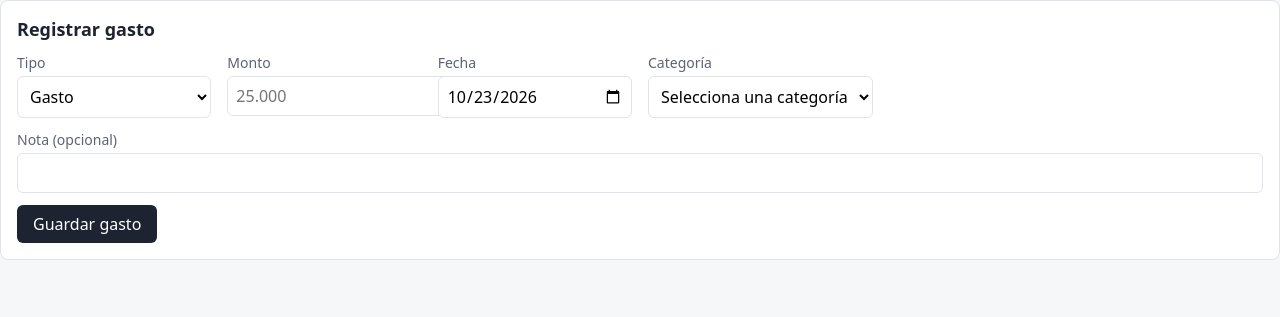
TransactionForm (RDF-6) › explains how to write an amount it cannot read
The width and height of the screenshot is (1280, 317).
Type "25,000.50" into the field labelled "Monto" at (352, 96), box 227,76 -> 476,116
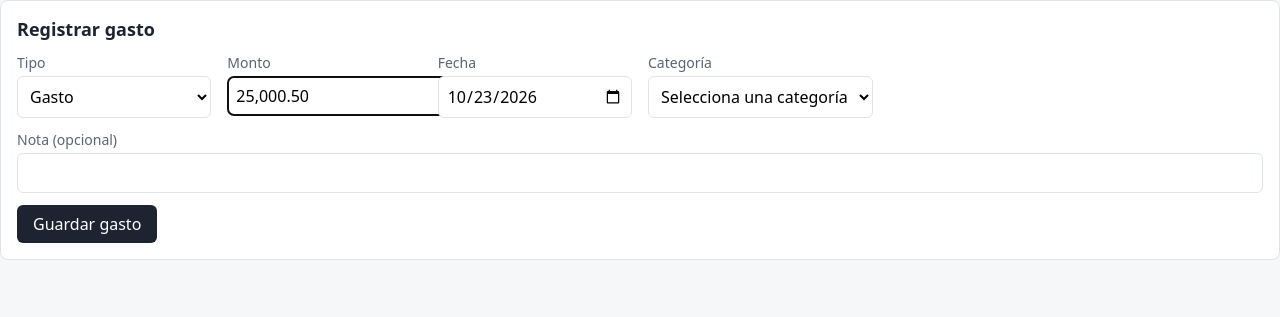
Select "Alimentación" in the dropdown labelled "Categoría" at (760, 97), box 648,76 -> 873,118
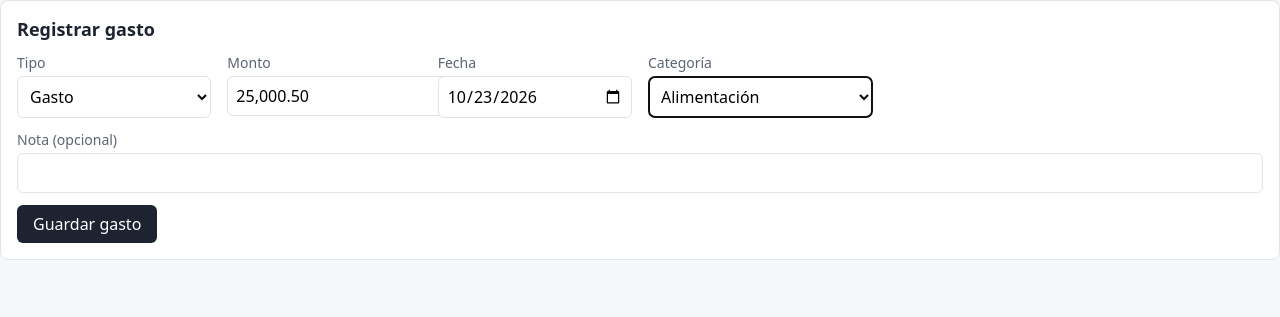
Click the button "Guardar gasto" at (87, 224), box 17,205 -> 157,243
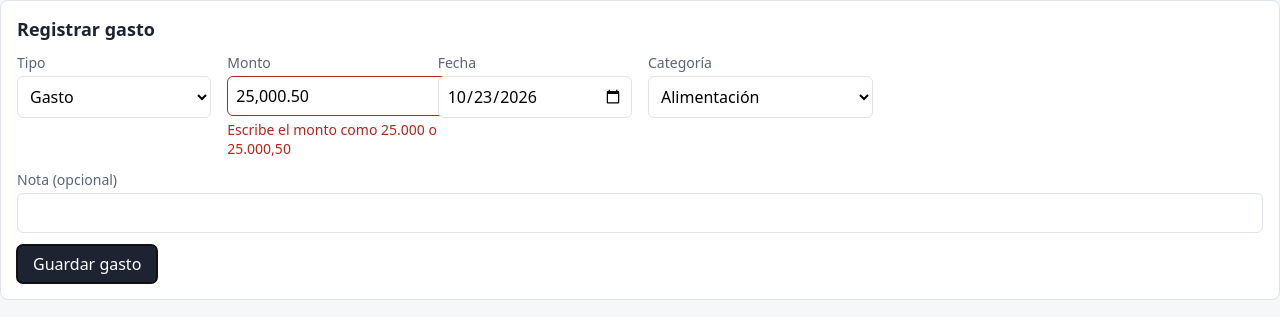
Check: the text "Escribe el monto como 25.000 o 25.000,50" is shown, box 227,120 -> 437,158
